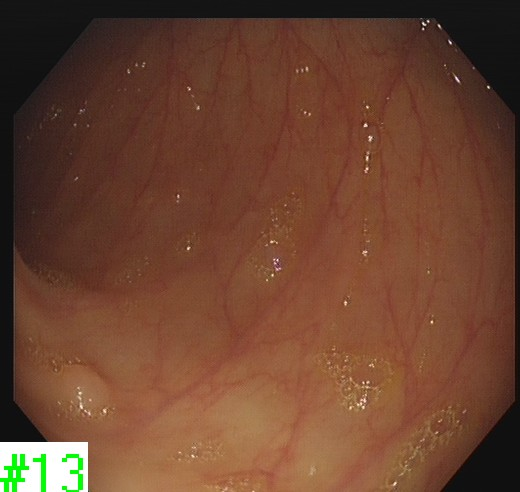adenoma: (52, 360, 112, 423)
